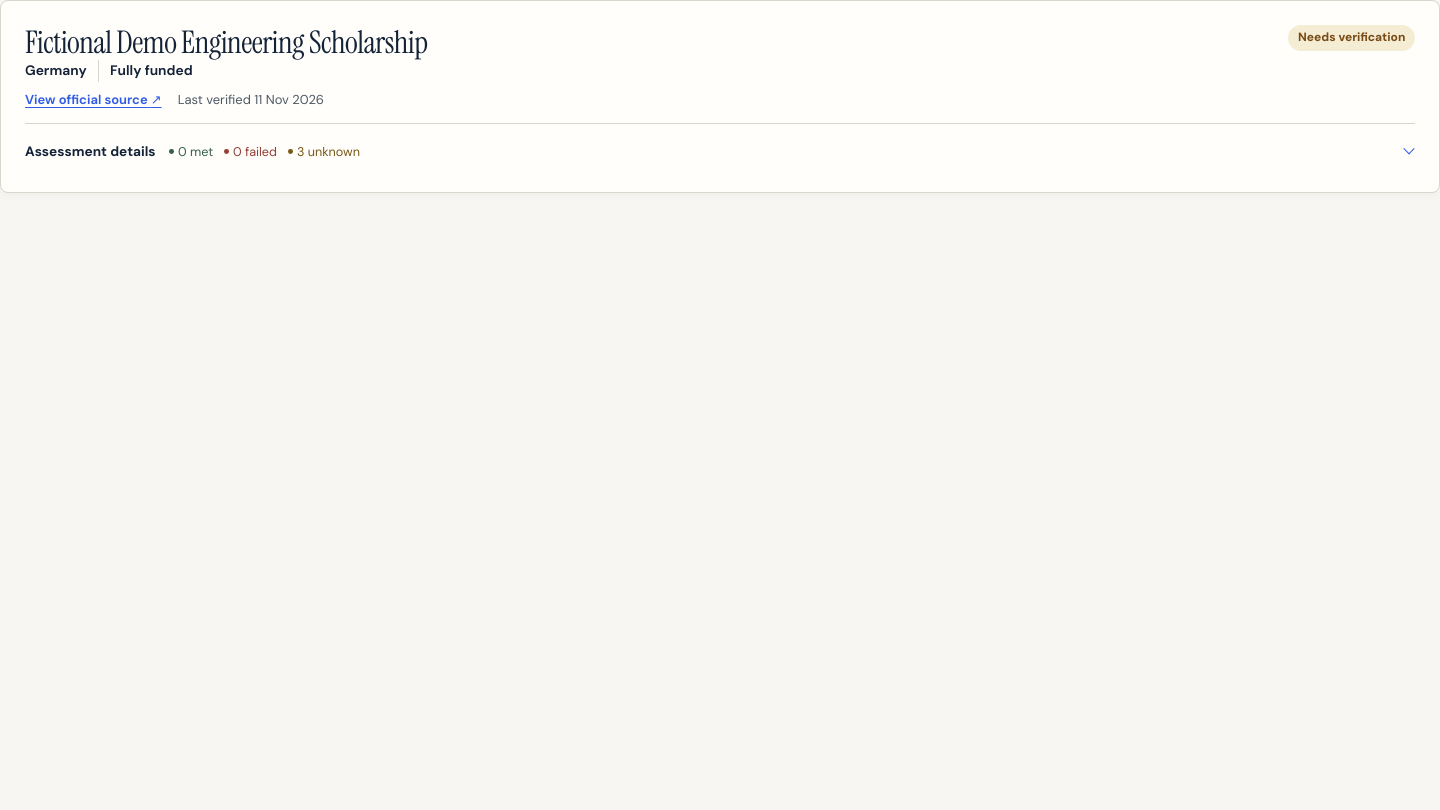
Test case: programme recommendation summaries › loads only the displayed record and separates award terms from eligibility
Expected: the text "Germany" is shown, [25, 60, 87, 82]
Expected: the text "Fully funded" is shown, [110, 60, 193, 82]
Click the text "Assessment details": (90, 152) [25, 141, 156, 162]
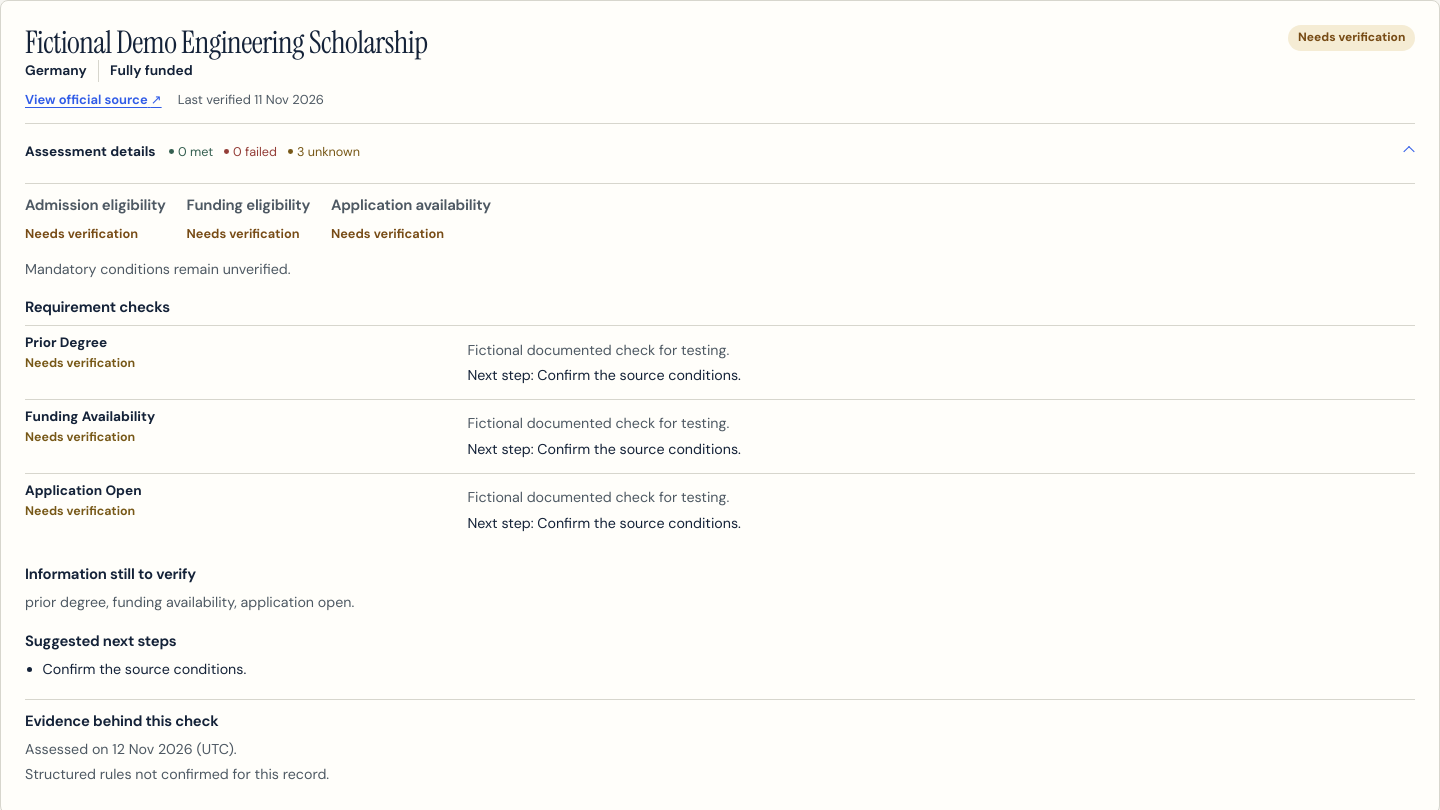
Now the heading "Funding eligibility" is shown, box [186, 196, 310, 215]
